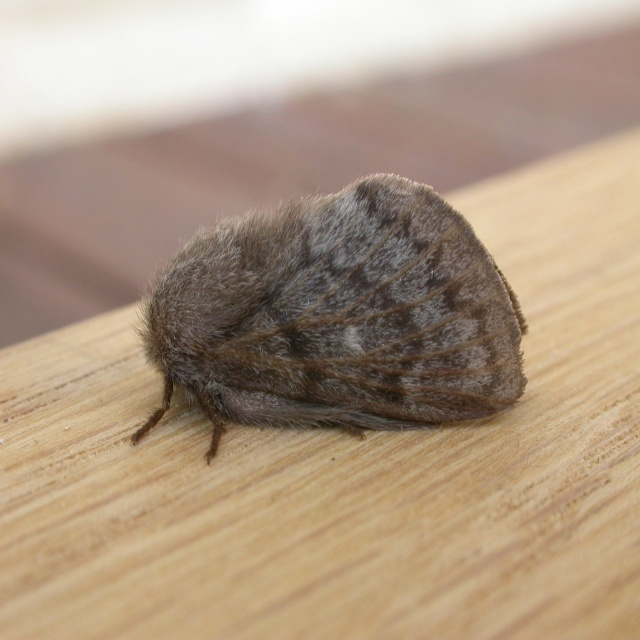Moths and butterflies: (123, 171, 530, 471)
